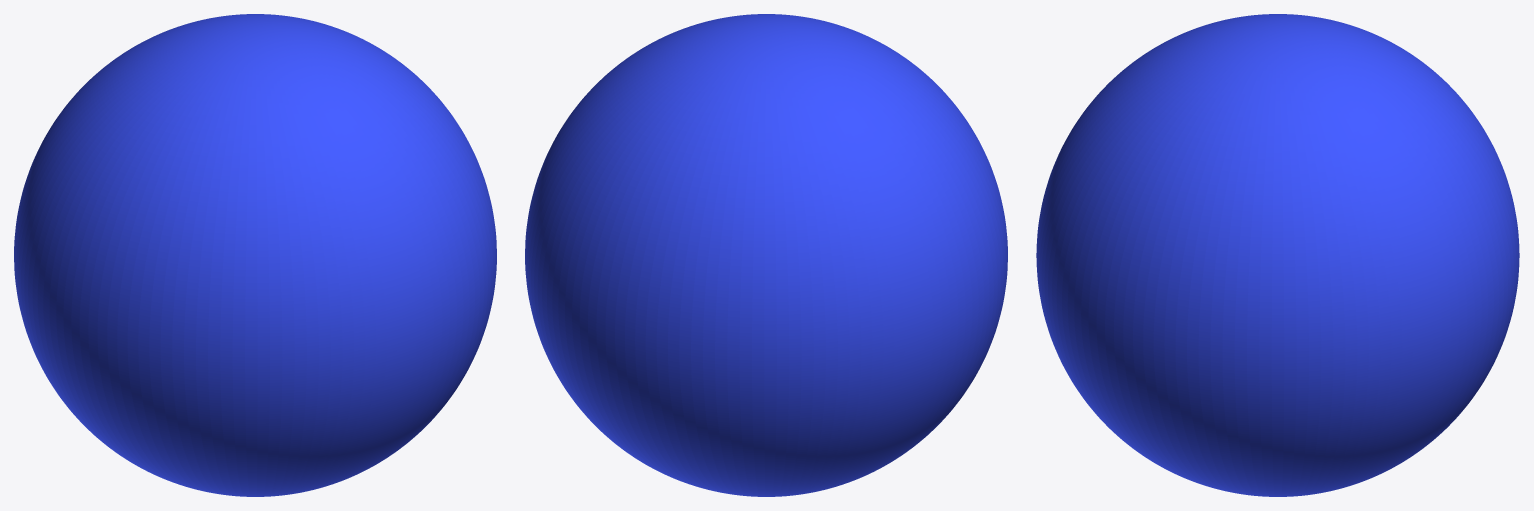
File: pwr2.fbx
The picture shows the model from 3 angles, left to right: view 1: azimuth 30°, elevation 25°; view 2: azimuth 150°, elevation 25°; view 3: azimuth 270°, elevation 25°; orthographic projection.
Parts seen in each view (by area): view 1: Sphere; view 2: Sphere; view 3: Sphere.
Part boxes in pixels (x1,y1,x2,y2): Sphere: (14,14,496,496); Sphere: (525,14,1007,496); Sphere: (1036,14,1519,496).
Bounding box in the file's own units: 200 × 200 × 200.
